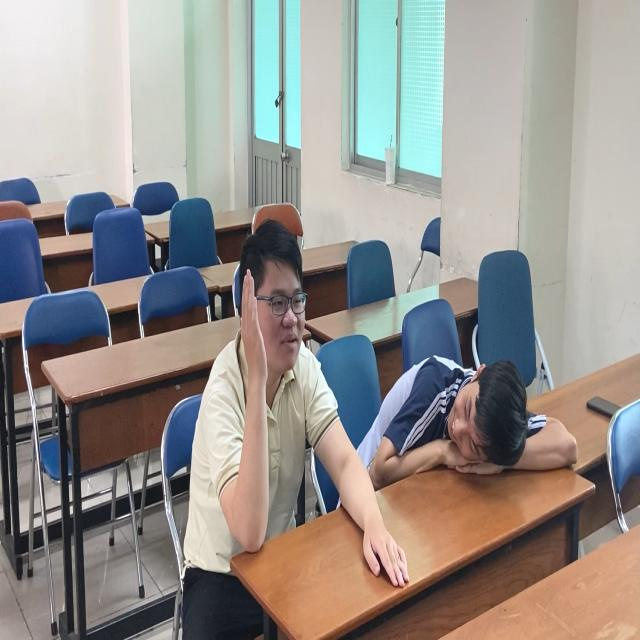raise_hand: (203, 200, 320, 556)
sleep: (377, 321, 578, 531)
